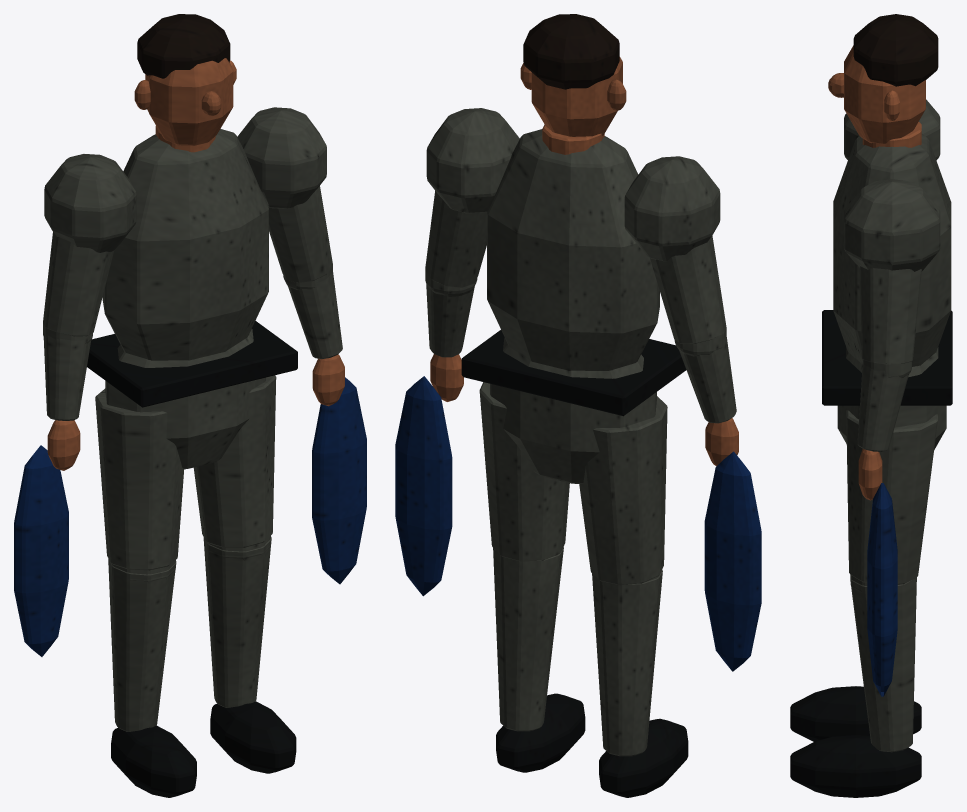
Rendered from PROP-F5195071E480_lod1.glb.
3 views of the same model, side by side, from view 1: azimuth 30°, elevation 25°; view 2: azimuth 150°, elevation 25°; view 3: azimuth 270°, elevation 25° (orthographic). The views are drawn at different scales.
Parts seen in each view (by area): view 1: torso.037, thigh.036, diving_fins.001, calf.036, shoulder.037, upper_arm.037, shoe.036, belt.036, pelvis.036, forearm.037, head.036, hair_cap.036 (+3 smaller); view 2: torso.037, thigh.036, diving_fins.001, calf.036, shoulder.037, upper_arm.037, pelvis.036, shoe.036, belt.036, hair_cap.036, forearm.037, head.036 (+4 smaller); view 3: torso.037, shoe.036, shoulder.037, thigh.036, calf.036, diving_fins.001, upper_arm.037, belt.036, hair_cap.036, head.036, forearm.037, pelvis.036 (+5 smaller).
Boxes of the visible parts, bbox=[...] form: torso.037: bbox=[102, 129, 268, 360]; thigh.036: bbox=[95, 375, 276, 570]; diving_fins.001: bbox=[14, 377, 366, 656]; calf.036: bbox=[108, 537, 271, 731]; shoulder.037: bbox=[44, 107, 326, 252]; upper_arm.037: bbox=[43, 186, 332, 336]; shoe.036: bbox=[111, 701, 296, 797]; belt.036: bbox=[87, 321, 297, 407]; pelvis.036: bbox=[105, 329, 265, 469]; forearm.037: bbox=[43, 272, 342, 420]; head.036: bbox=[145, 58, 233, 145]; hair_cap.036: bbox=[137, 14, 230, 78]; torso.037: bbox=[487, 129, 659, 370]; thigh.036: bbox=[479, 382, 667, 585]; diving_fins.001: bbox=[395, 376, 761, 671]; calf.036: bbox=[493, 547, 662, 756]; shoulder.037: bbox=[426, 108, 720, 261]; upper_arm.037: bbox=[425, 191, 726, 343]; pelvis.036: bbox=[490, 338, 656, 483]; shoe.036: bbox=[496, 693, 688, 797]; belt.036: bbox=[461, 330, 686, 416]; hair_cap.036: bbox=[523, 14, 619, 89]; forearm.037: bbox=[426, 284, 736, 423]; head.036: bbox=[531, 57, 622, 136]; torso.037: bbox=[833, 133, 951, 366]; shoe.036: bbox=[790, 686, 921, 797]; shoulder.037: bbox=[844, 99, 940, 271]; thigh.036: bbox=[846, 410, 937, 584]; calf.036: bbox=[850, 575, 916, 752]; diving_fins.001: bbox=[867, 483, 897, 696]; upper_arm.037: bbox=[859, 266, 921, 363]; belt.036: bbox=[822, 310, 952, 405]; hair_cap.036: bbox=[853, 14, 938, 86]; head.036: bbox=[844, 45, 925, 143]; forearm.037: bbox=[857, 362, 908, 451]; pelvis.036: bbox=[837, 347, 946, 450].
Size of the model in its own units: 0.8487 by 1.71 by 0.3357.
Materials: 5 (5 with a texture image).
